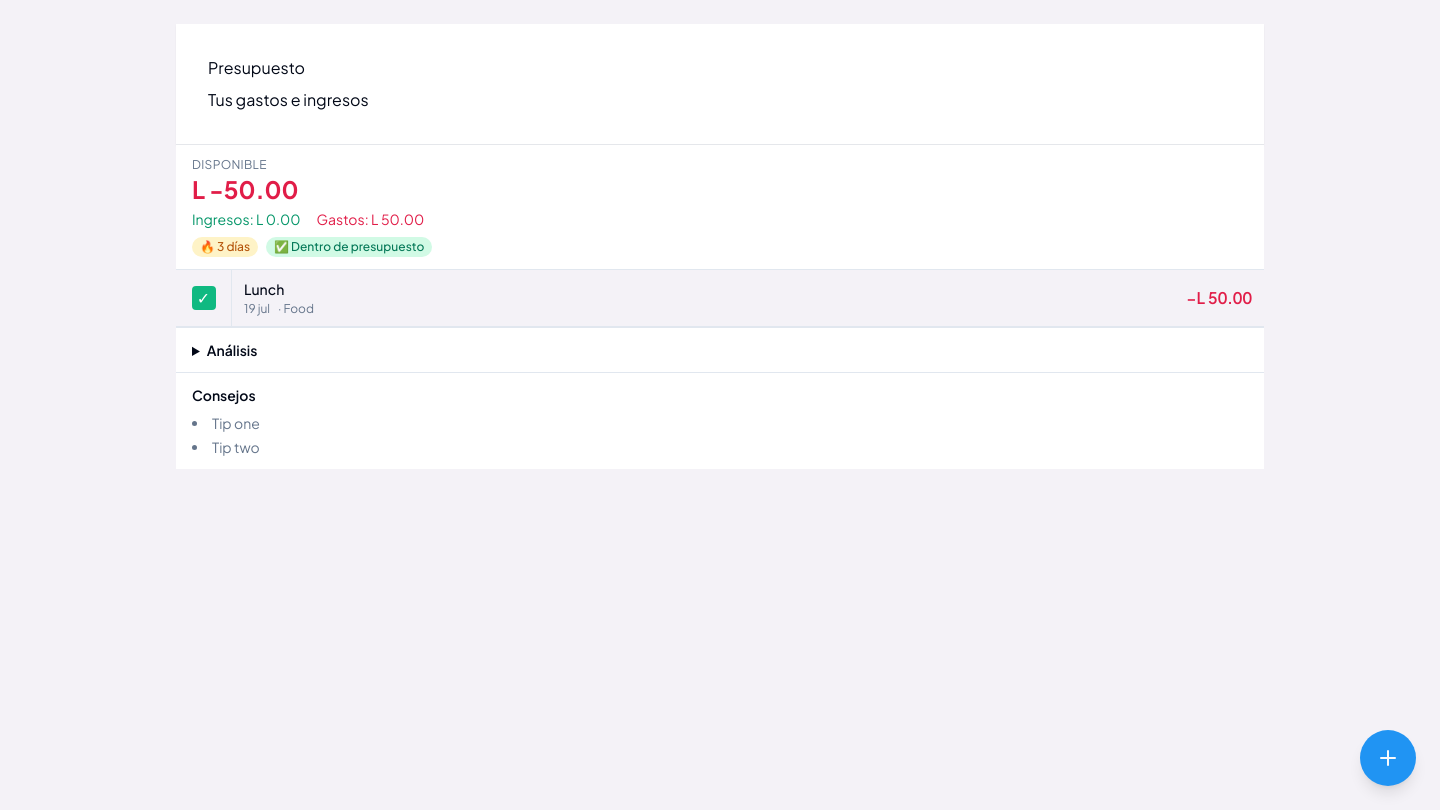
Test case: BudgetMobile › opens the add sheet via FAB
Click the button named "Agregar" at (1388, 758), box [1360, 730, 1416, 786]
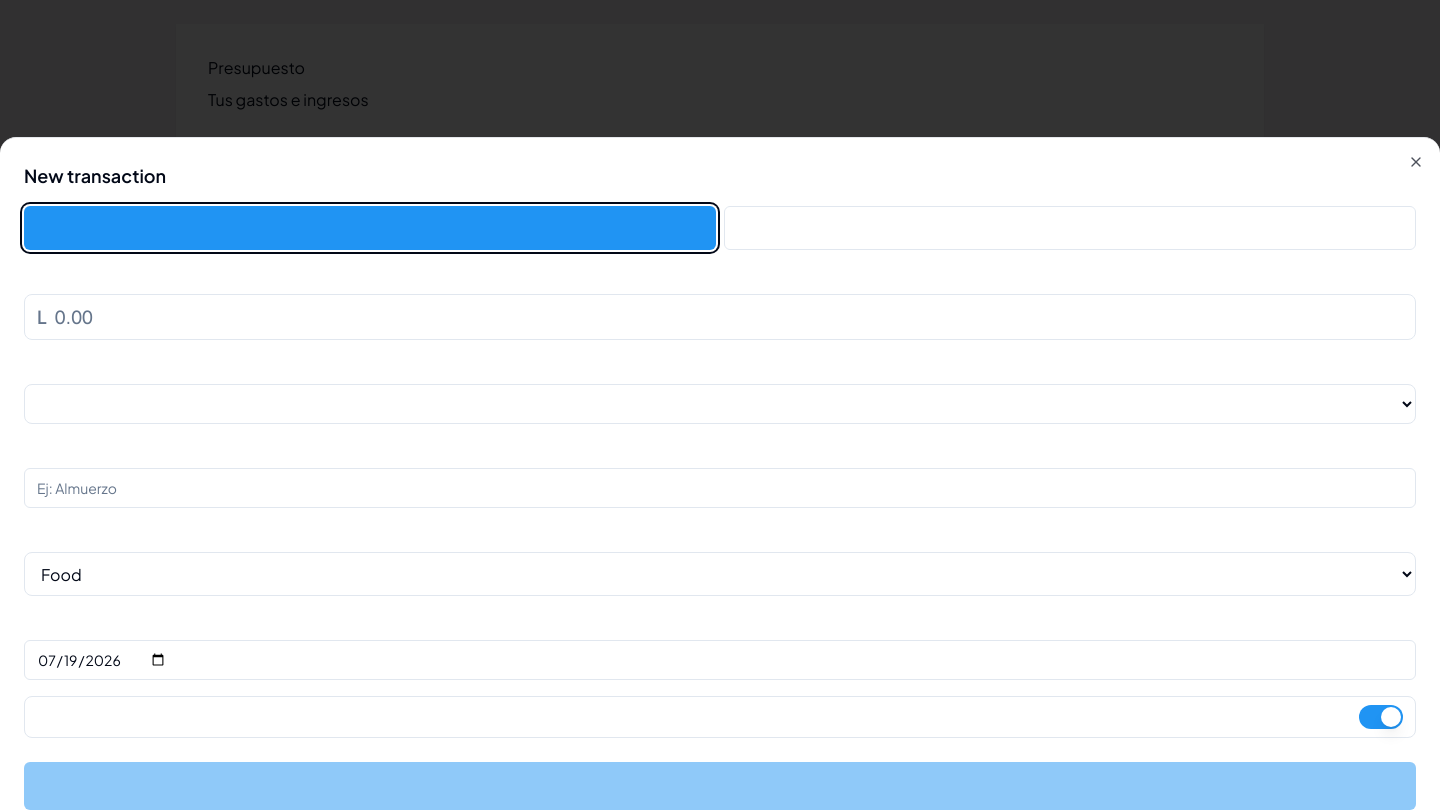
Expected: the heading "New transaction" is shown, [24, 164, 166, 187]
